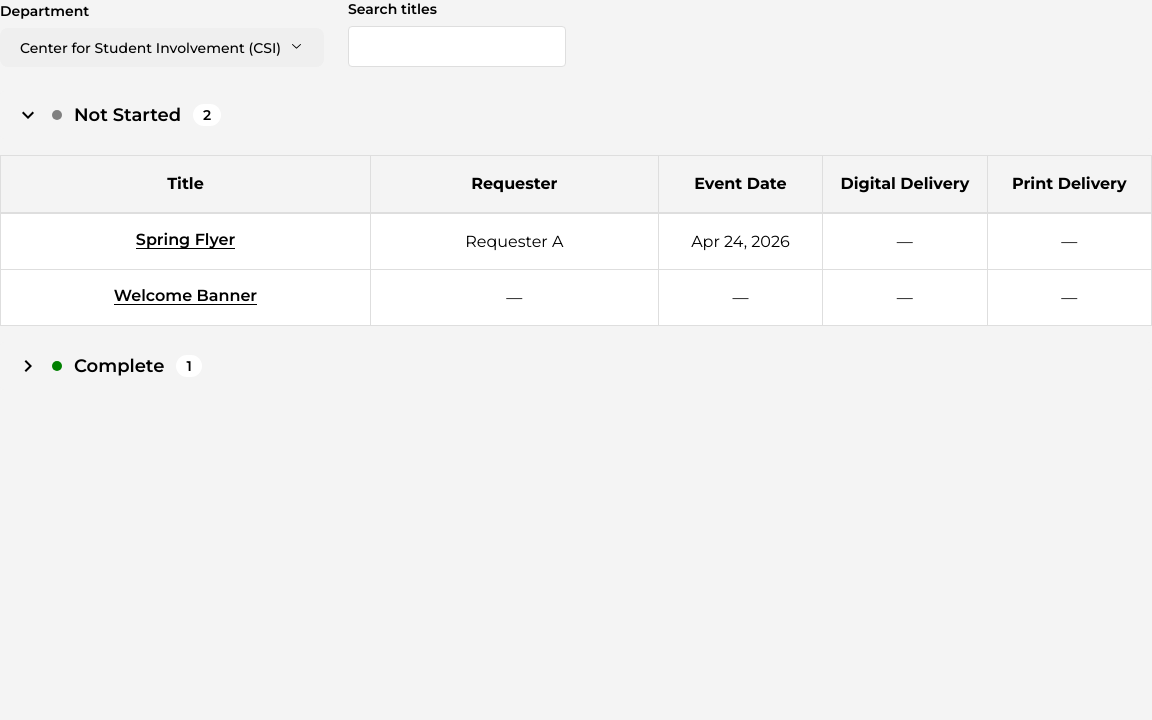
ContentBoard › opens a request in the detail panel and closes it with Escape
This screenshot has width=1152, height=720.
Click the button "Spring Flyer".
click(185, 240)  # box [136,230,235,249]
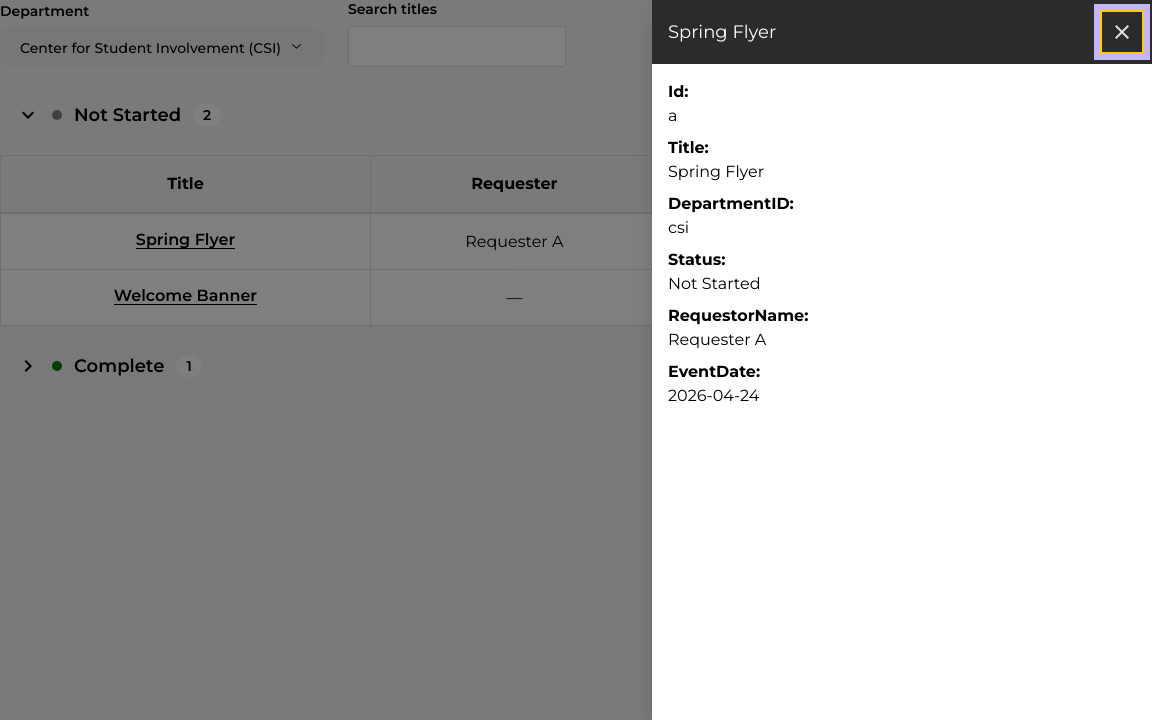
Result: the text "Requester A" is shown at [668,330,766,349]
Press Escape
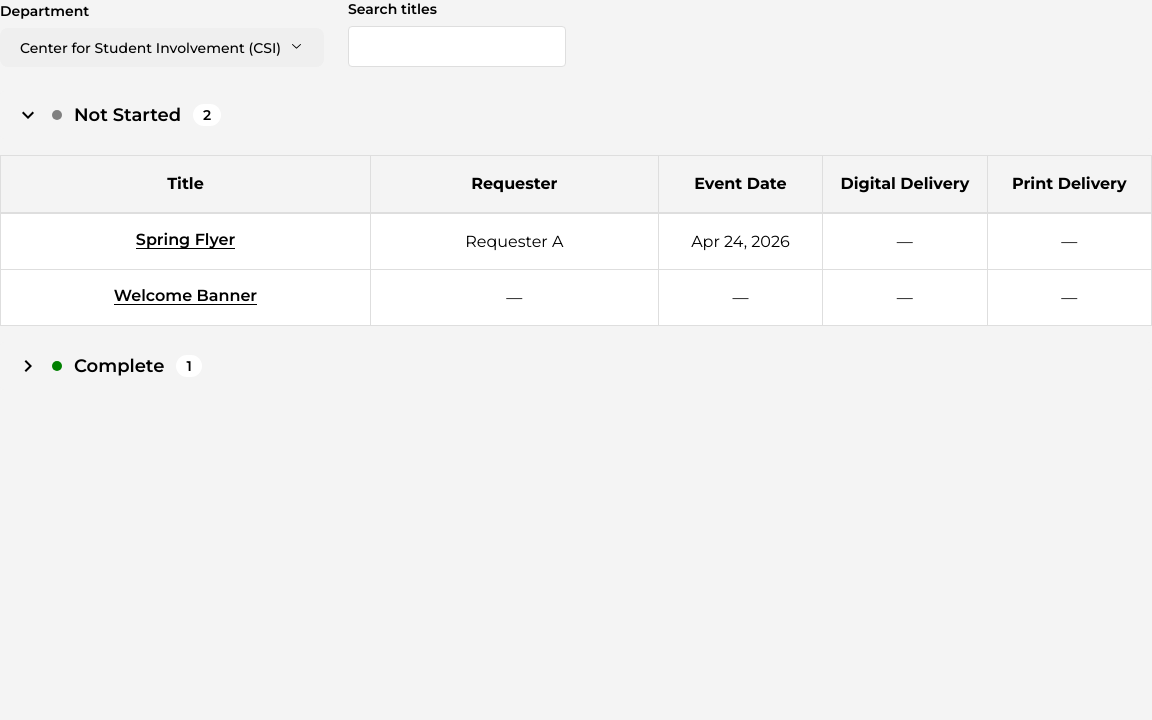
Result: the dialog is gone
